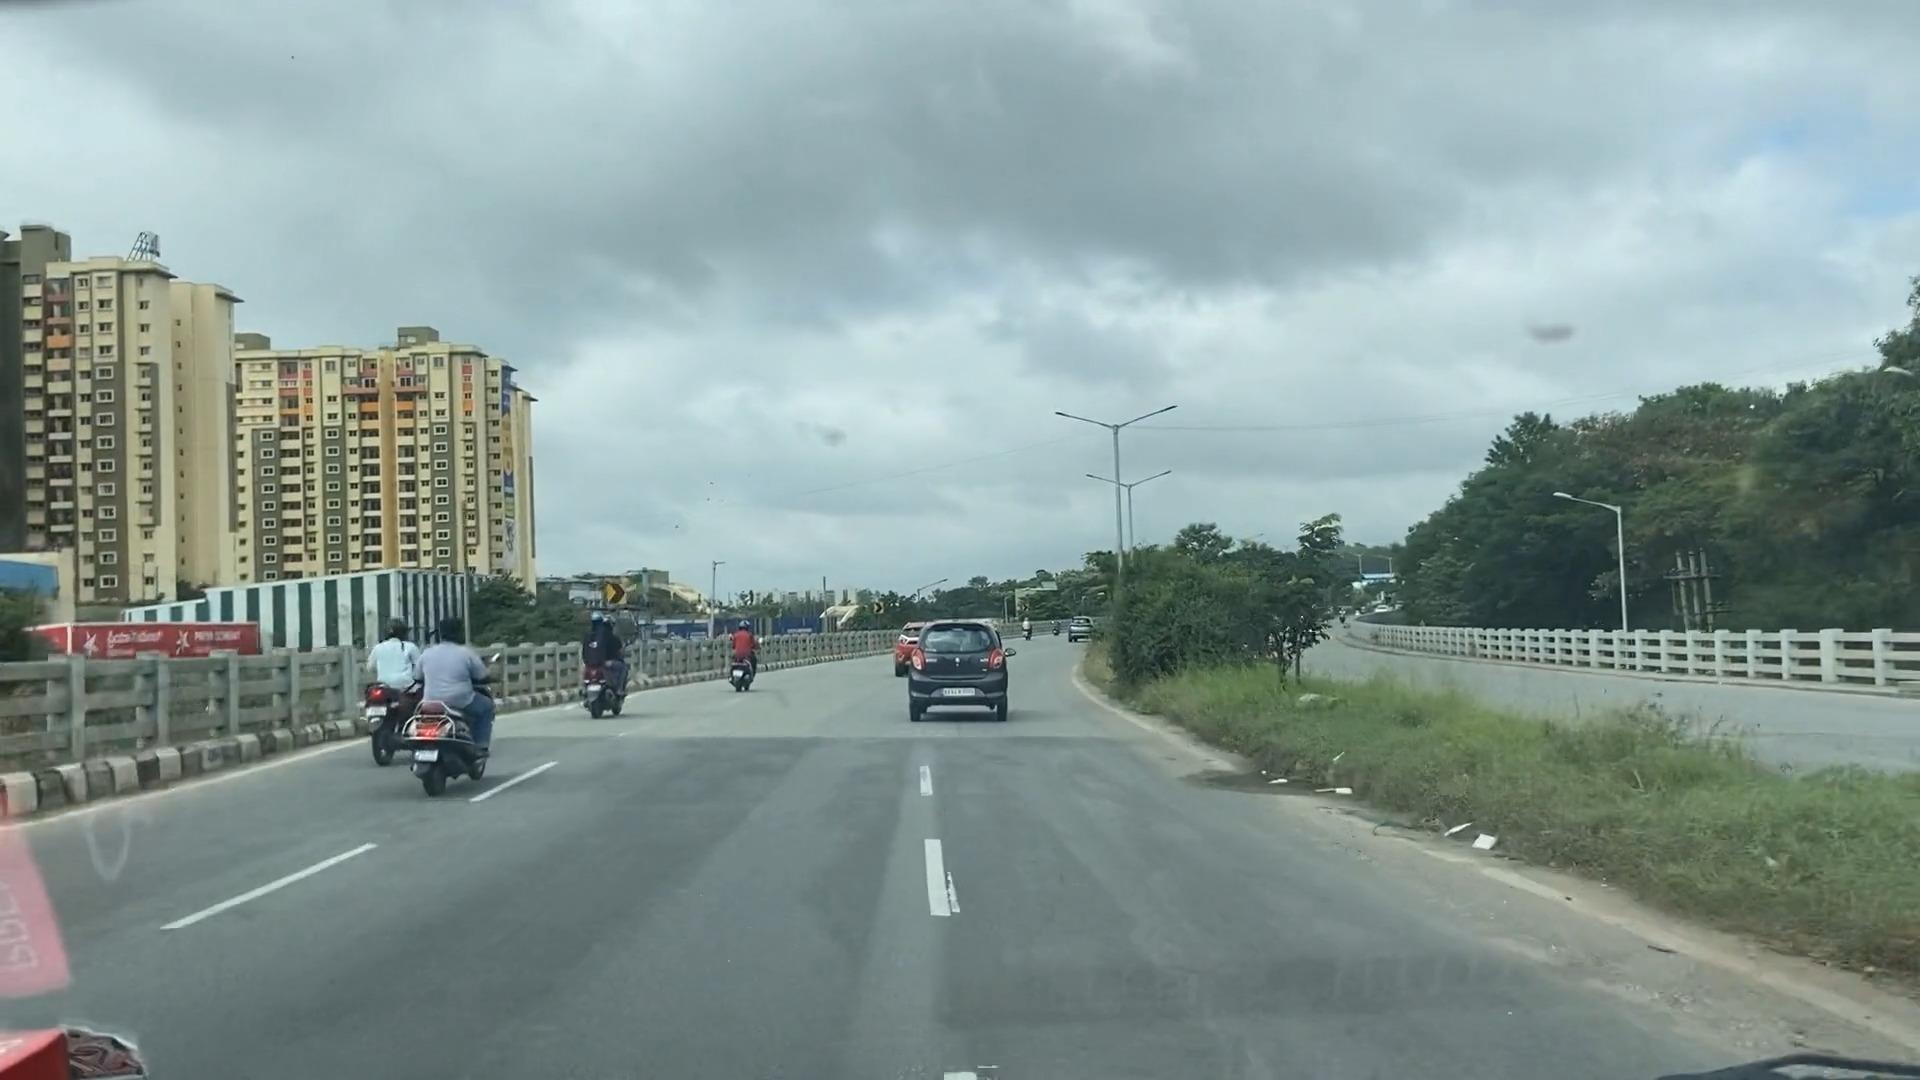LMV: (407, 622, 480, 778), (588, 612, 638, 712), (727, 618, 761, 687)
RoadDamages: (1460, 918, 1665, 996), (909, 626, 1006, 716), (1189, 750, 1300, 825)
